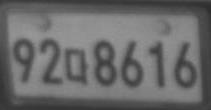1: (147, 40, 171, 87)
2: (39, 37, 62, 84)
6: (173, 41, 197, 89), (120, 40, 144, 86)
8: (93, 39, 117, 85)
9: (12, 38, 35, 83)
다: (64, 48, 90, 85)
